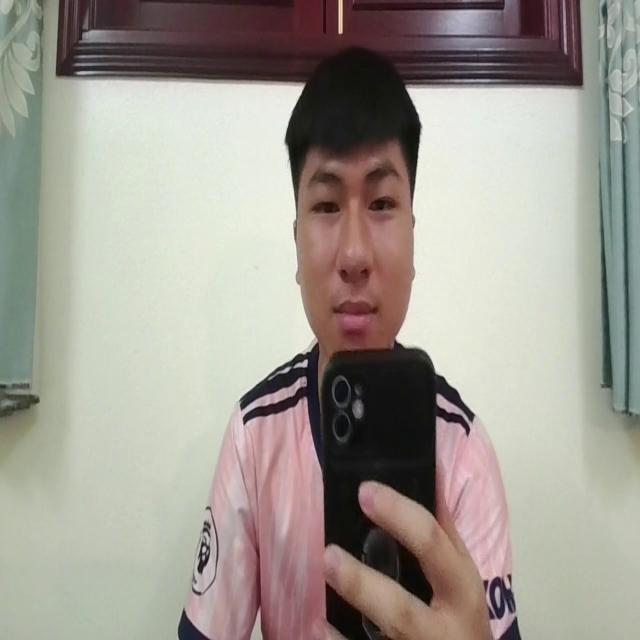phone: (324, 335, 438, 640)
student: (155, 41, 512, 640)
